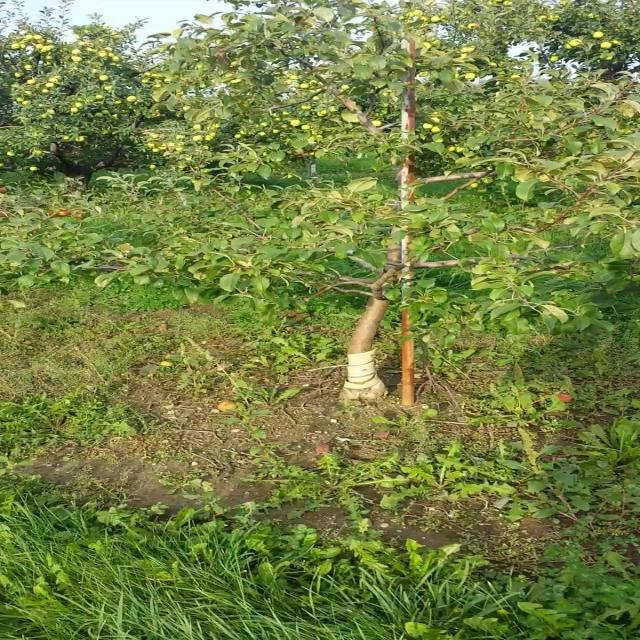apple: (56, 212, 71, 217), (77, 216, 85, 220)
